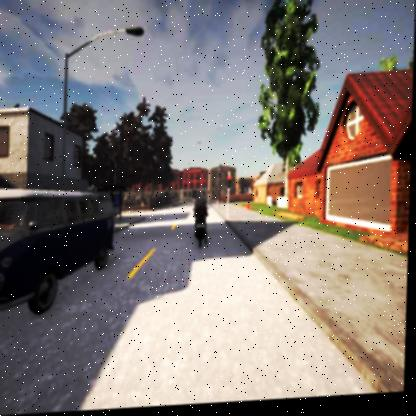motobike: (194, 201, 211, 243)
vehicle: (0, 181, 119, 325)
